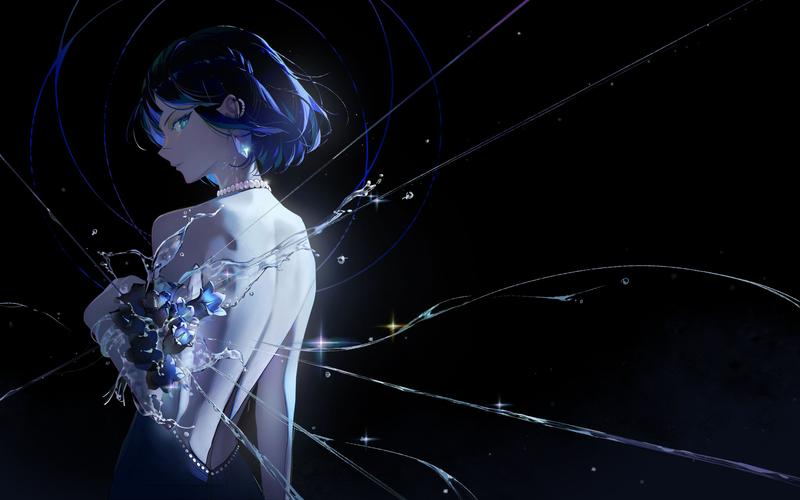夜兰: (78, 20, 333, 500)
